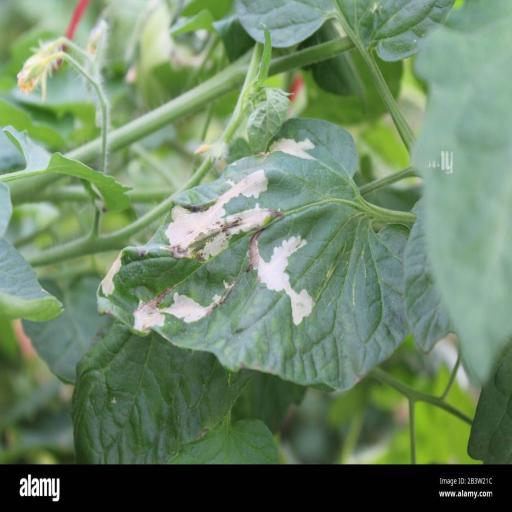disease_tomato: (90, 114, 408, 392)
